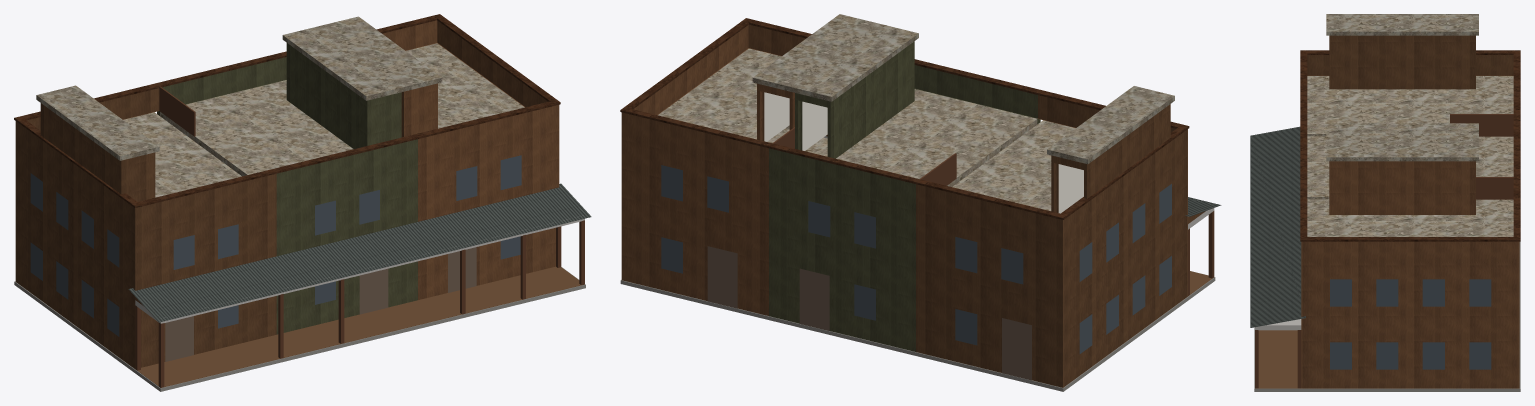
File: rw-mill-row.towns-v1.lod1.glb
The picture shows the model from 3 angles, left to right: view 1: azimuth 30°, elevation 25°; view 2: azimuth 150°, elevation 25°; view 3: azimuth 270°, elevation 25°; orthographic projection. The views are drawn at different scales.
Parts seen in each view (by area): view 1: rw-mill-row; view 2: rw-mill-row; view 3: rw-mill-row.
Boxes of the visible parts, x1,y1,x2,y2 form: rw-mill-row: (14,14,591,391); rw-mill-row: (620,14,1221,391); rw-mill-row: (1250,14,1520,391).
Size of the model in its own units: 19.6 by 8.95 by 11.64.
4 materials, 3 textured.
